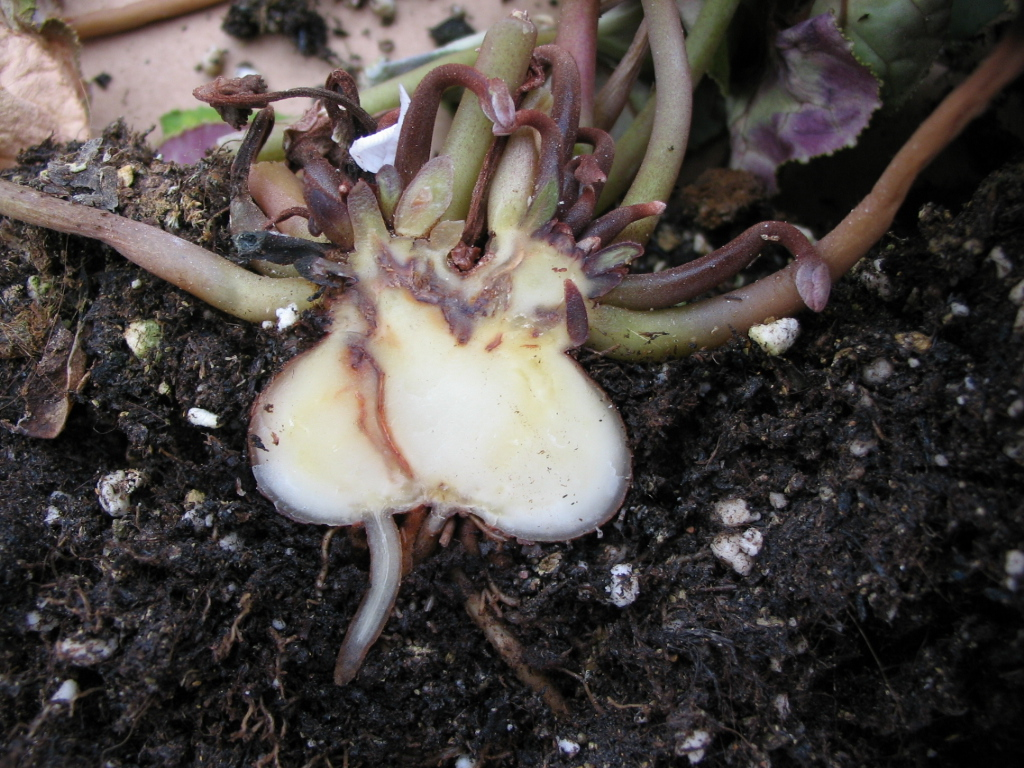Fusarium: (351, 226, 562, 353), (709, 493, 793, 587), (231, 296, 338, 345), (612, 565, 638, 605)
